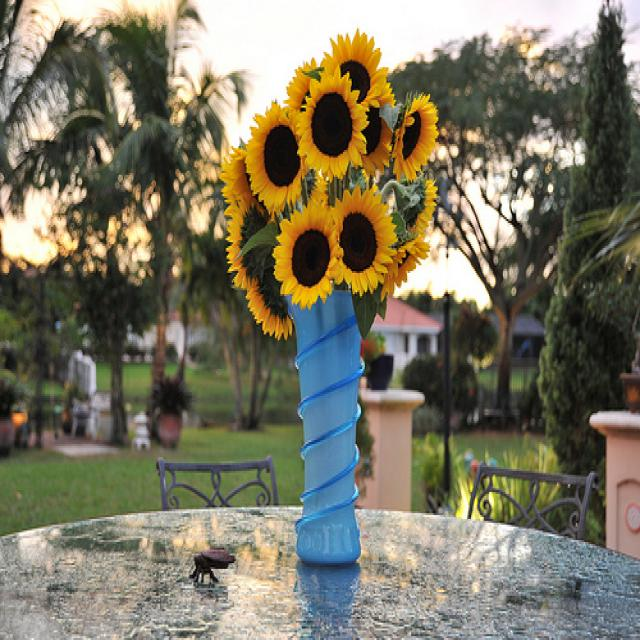sunflower: (290, 58, 372, 182), (324, 182, 406, 304), (272, 192, 350, 302), (236, 99, 317, 203), (312, 28, 396, 126), (387, 81, 444, 178)
